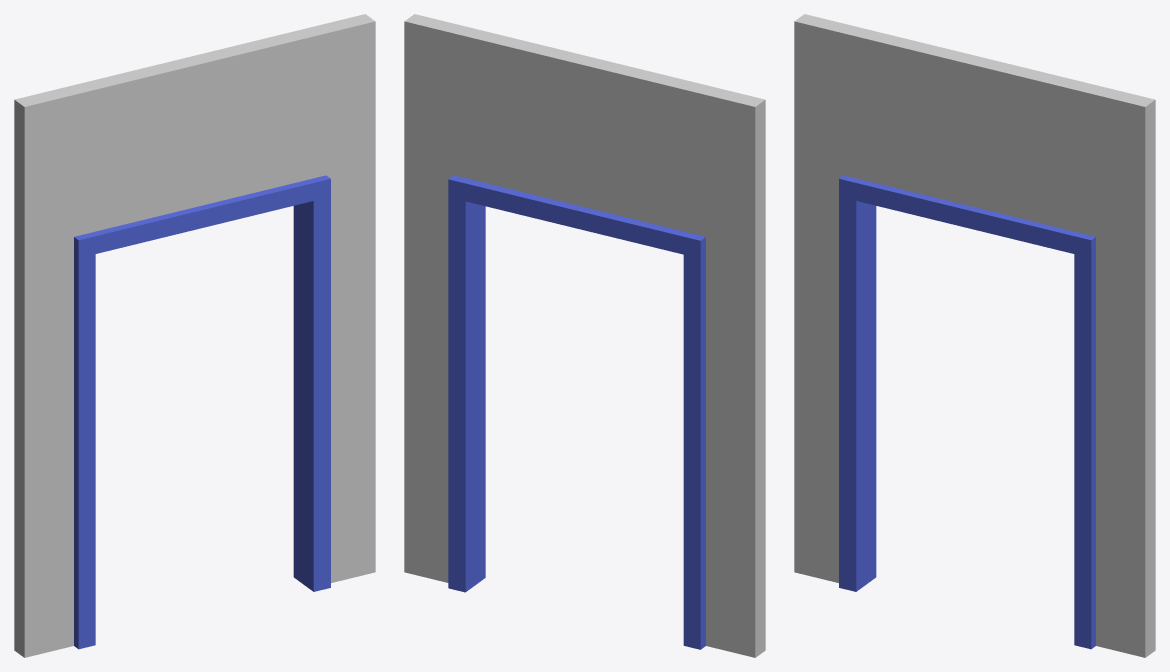
The model's file is model_doorFrame_01.fbx.
The picture shows the model from 3 angles, left to right: view 1: azimuth 30°, elevation 25°; view 2: azimuth 150°, elevation 25°; view 3: azimuth 330°, elevation 25°; orthographic projection.
Visible parts, largest first — view 1: Plane.028; view 2: Plane.028; view 3: Plane.028.
Part boxes in pixels (x1,y1,x2,y2): Plane.028: (14,14,375,657); Plane.028: (404,14,765,657); Plane.028: (794,14,1155,657).
Size of the model in its own units: 200 by 300 by 20.
